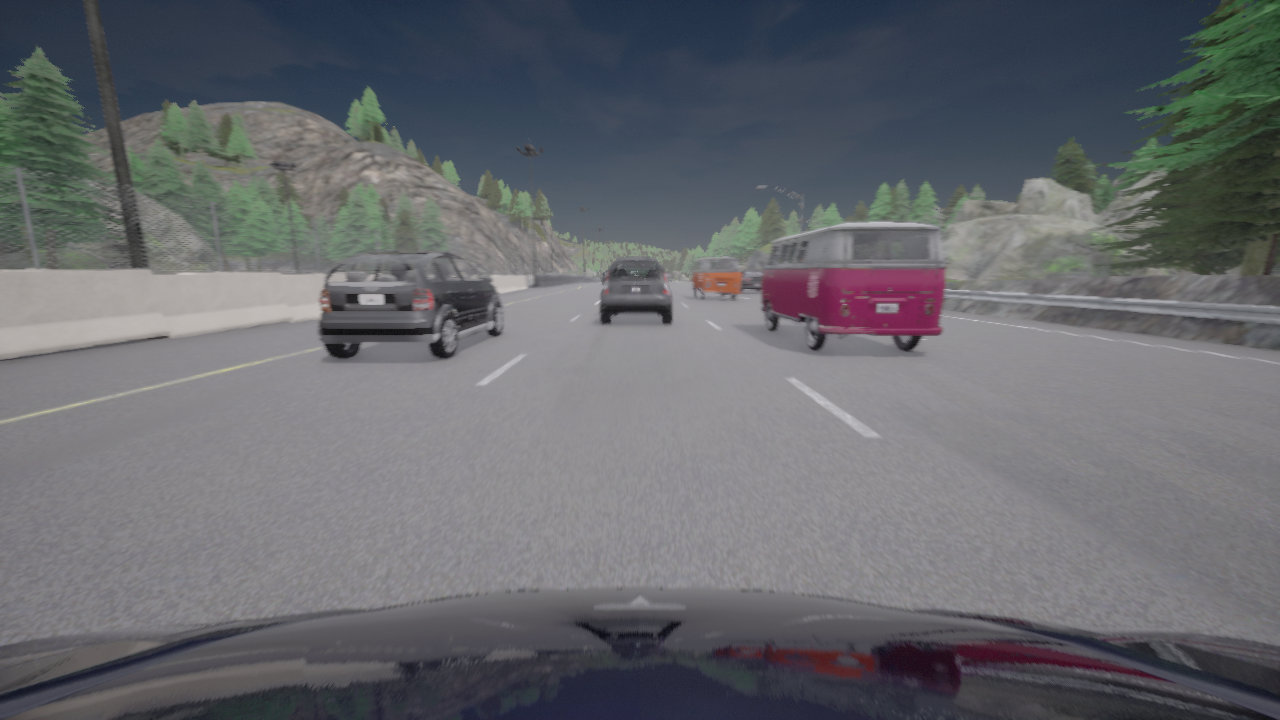cyclist: (0, 588, 1279, 719), (759, 222, 946, 350), (317, 251, 504, 358), (601, 257, 671, 323), (690, 257, 740, 299), (740, 270, 763, 293), (601, 271, 607, 283)
